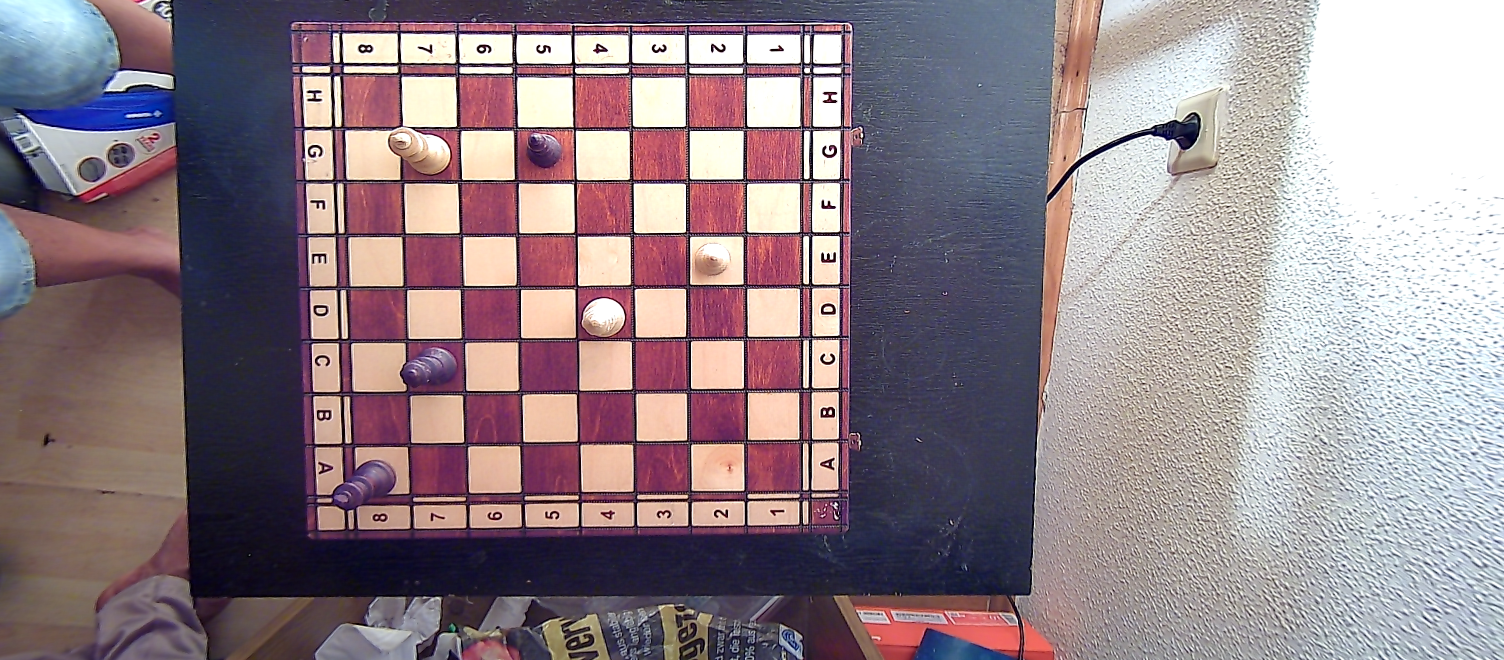black-bishop: (525, 127, 563, 169)
black-king: (331, 461, 395, 513)
black-queen: (400, 344, 461, 389)
white-bishop: (694, 239, 731, 280)
white-king: (386, 123, 451, 176)
white-queen: (578, 296, 627, 339)
